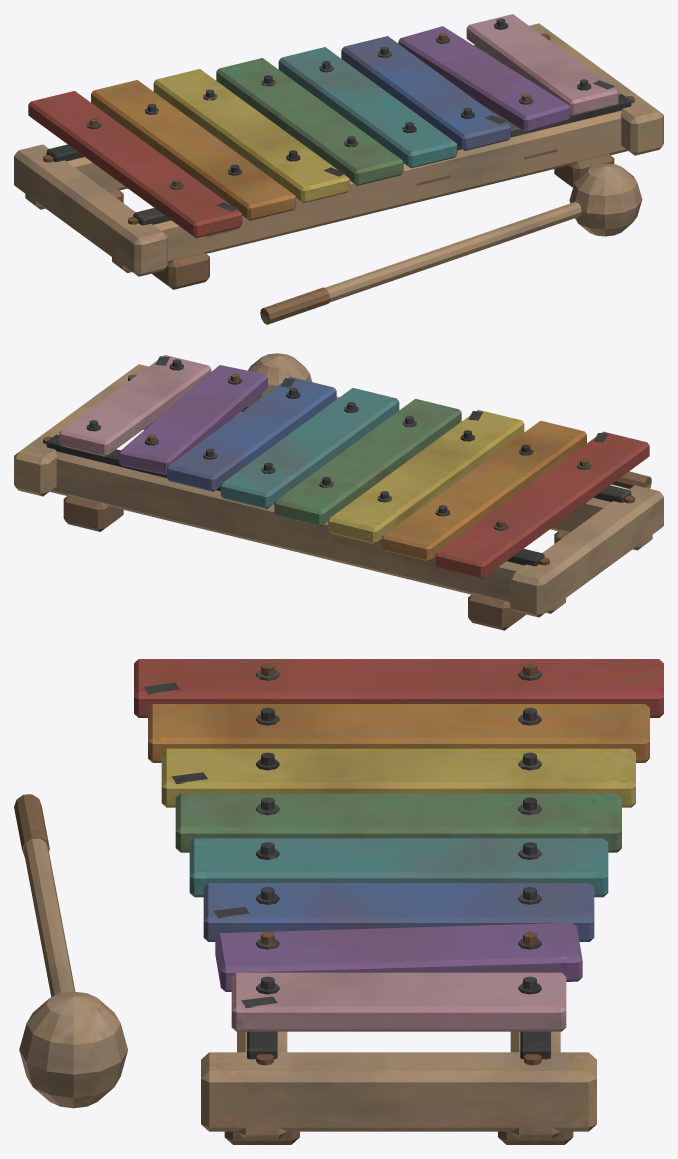
Rendered from T22_toy_xylophone.glb.
3 views of the same model, one above another, from view 1: azimuth 30°, elevation 25°; view 2: azimuth 150°, elevation 25°; view 3: azimuth 270°, elevation 25° (orthographic). The views are drawn at different scales.
Parts seen in each view (by area): view 1: Stubby wooden foot; view 2: Stubby wooden foot; view 3: Stubby wooden foot.
Part boxes in pixels (box(x1,y1,x2,y2)): Stubby wooden foot: box(14, 14, 663, 324); Stubby wooden foot: box(14, 353, 663, 630); Stubby wooden foot: box(14, 659, 663, 1144).
Bounding box in the file's own units: 0.4 × 0.0705 × 0.2693.
13 materials, 13 textured.
